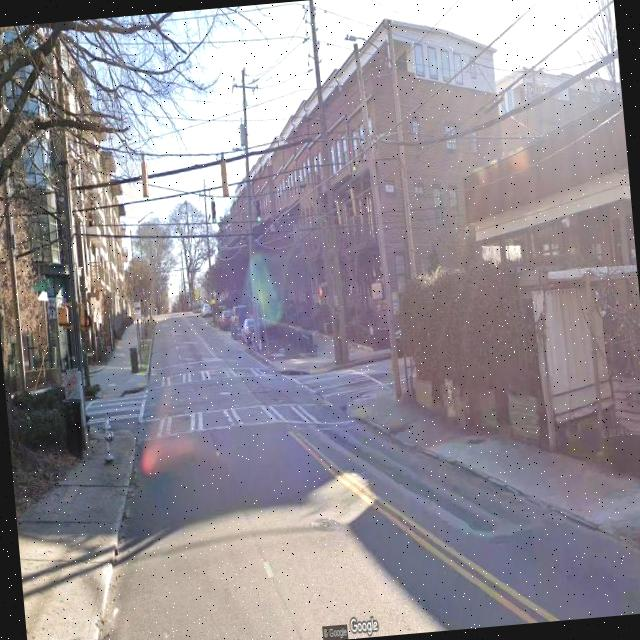seating: (302, 332, 318, 358)
trash_can: (60, 395, 86, 462), (129, 346, 139, 374)
